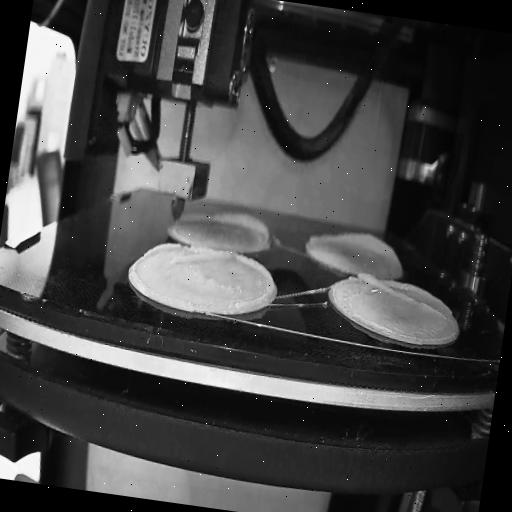over_extrusion: (353, 269, 449, 319), (306, 222, 402, 264), (228, 256, 278, 312), (210, 208, 274, 246), (174, 243, 232, 272)
